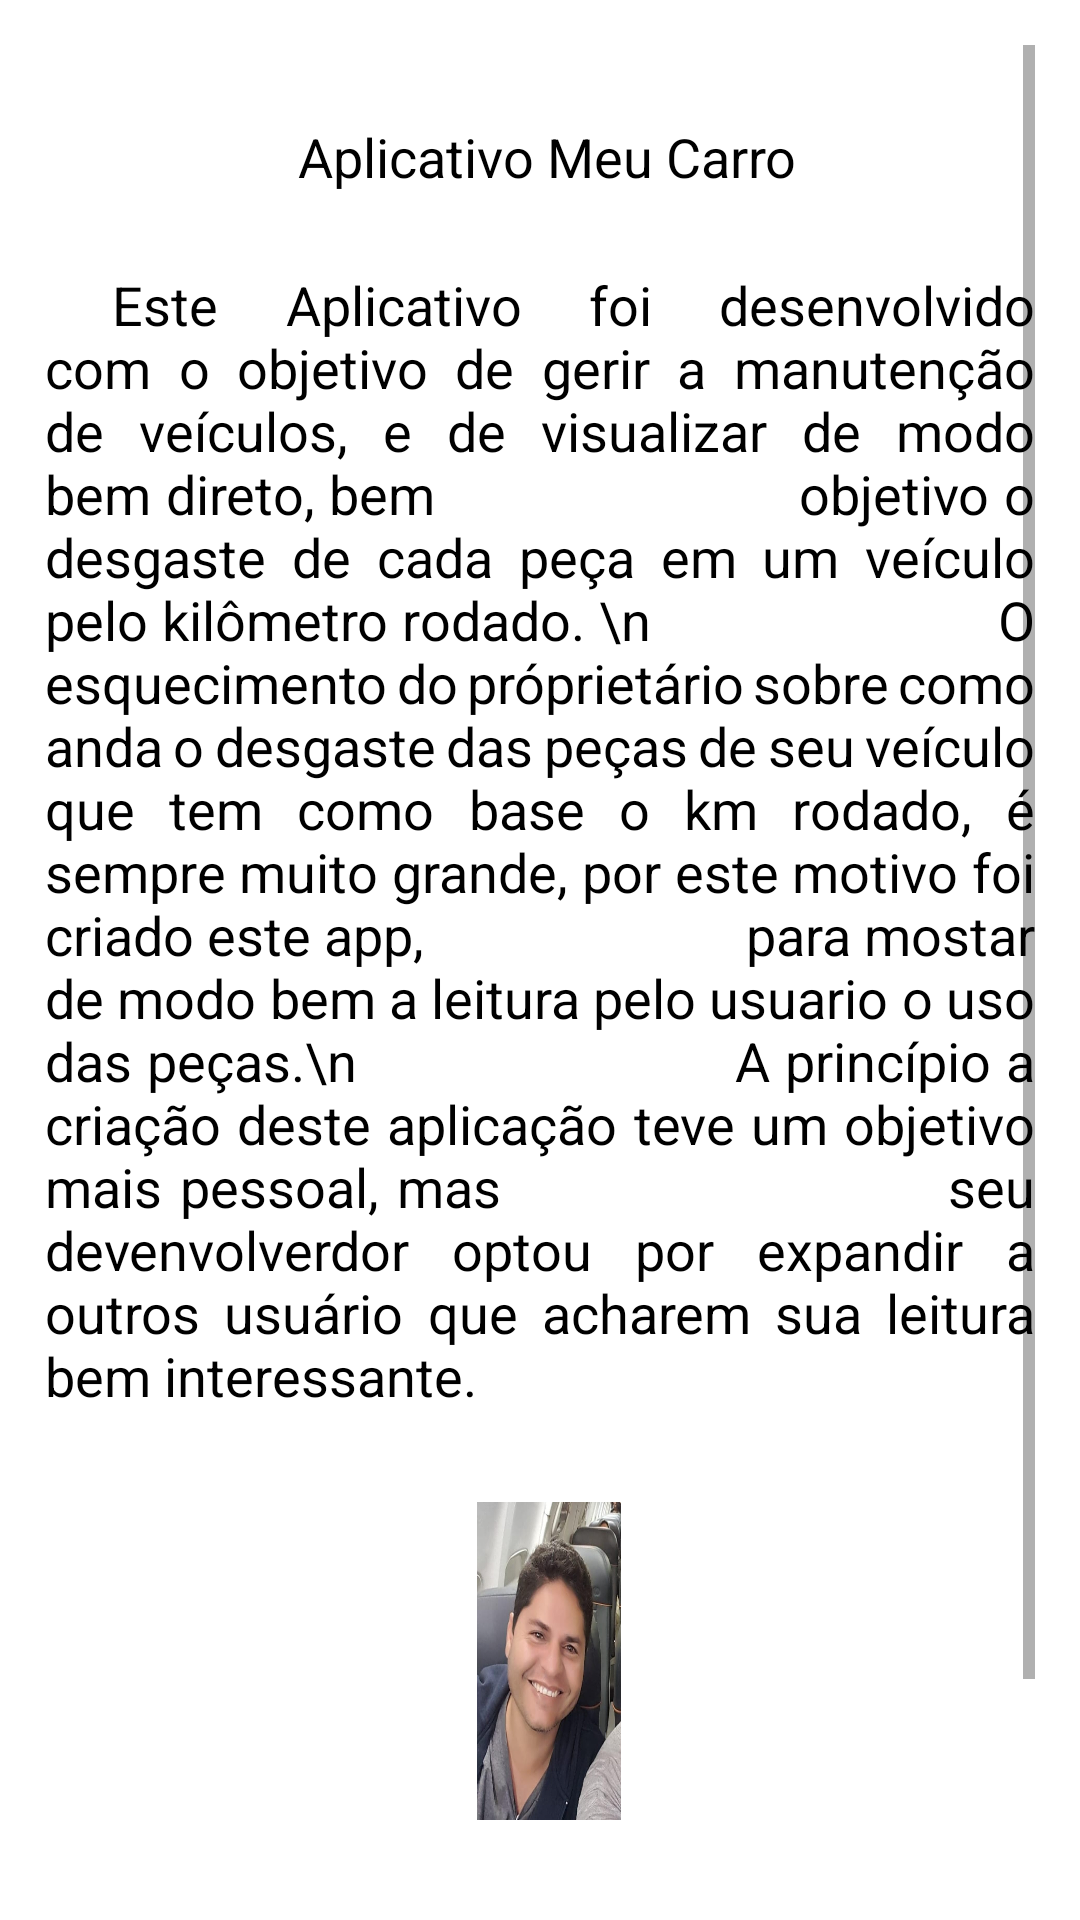

Screen size 1080 × 1920. Icon name, then its box in pixels as (x1, y1, x2, y2):
foto autor: (477, 1502, 621, 1820)
